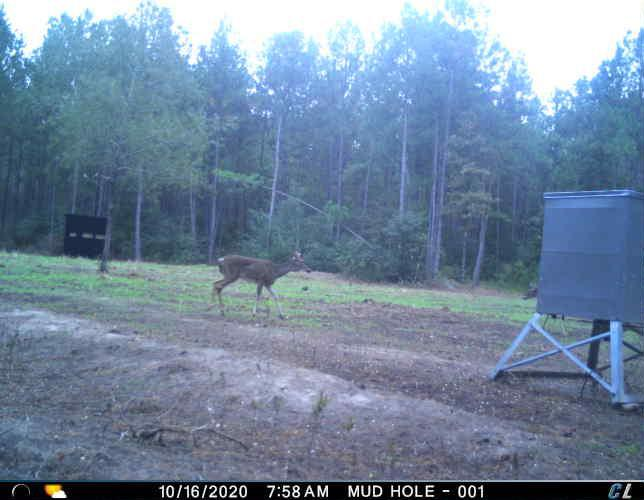Deer: (209, 245, 316, 325)
